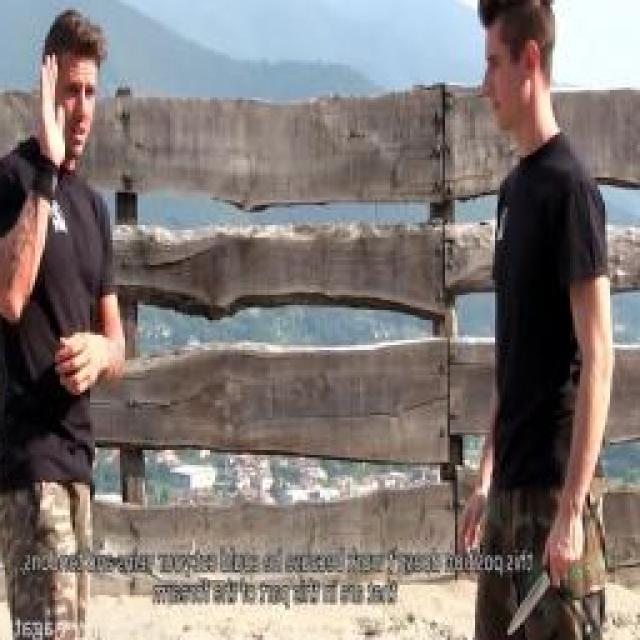knife: (503, 530, 585, 640)
